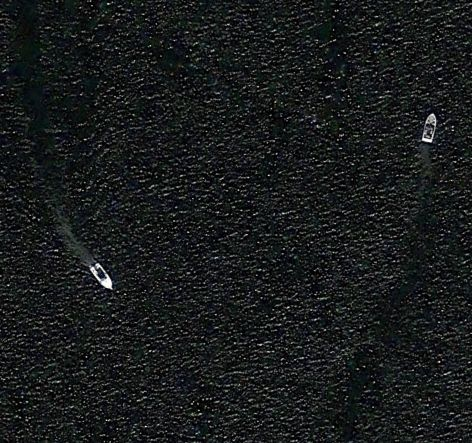boat: (87, 259, 116, 292), (420, 110, 440, 145)
